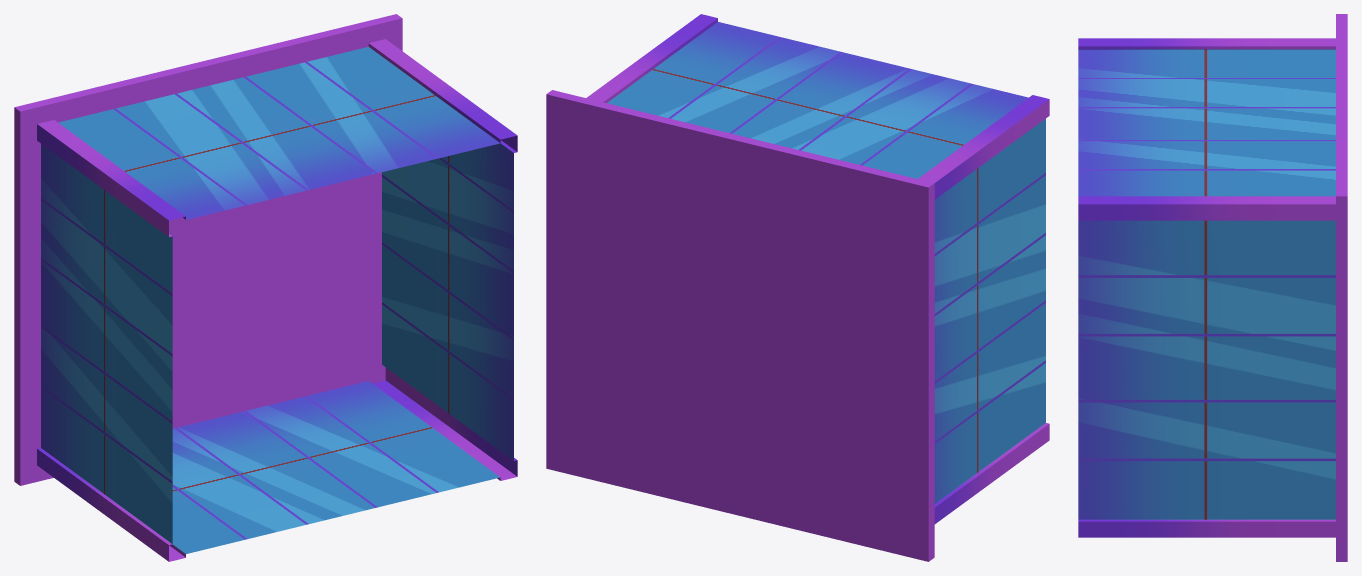
Rendered from ZhuBo2_Mo.fbx.
3 renders of one model, left to right at view 1: azimuth 30°, elevation 25°; view 2: azimuth 150°, elevation 25°; view 3: azimuth 270°, elevation 25°, orthographic. The views are drawn at different scales.
Visible parts, largest first — view 1: 对象005; view 2: 对象005; view 3: 对象005.
Boxes of the visible parts, <box> form: 对象005: <box>14,14,517,561</box>; 对象005: <box>546,14,1049,561</box>; 对象005: <box>1078,14,1347,561</box>.
Size of the model in its own units: 358 by 335 by 224.
